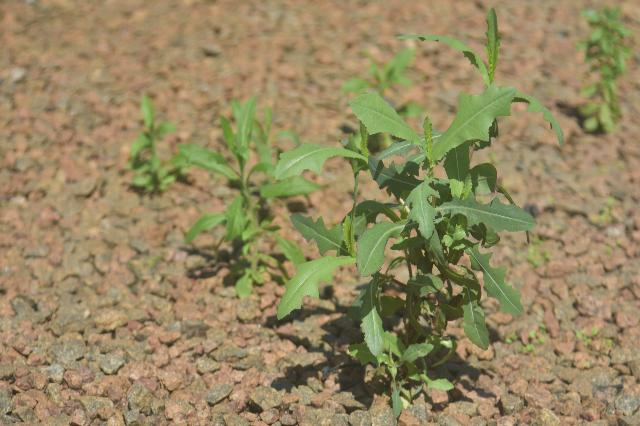MalezaMontesDelPlata: (278, 10, 569, 417), (182, 94, 304, 300)
